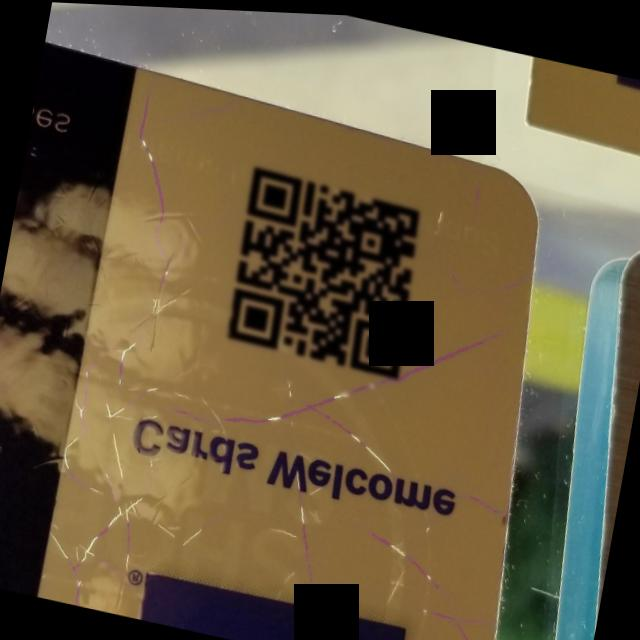QR_CODE: (198, 151, 440, 407)
